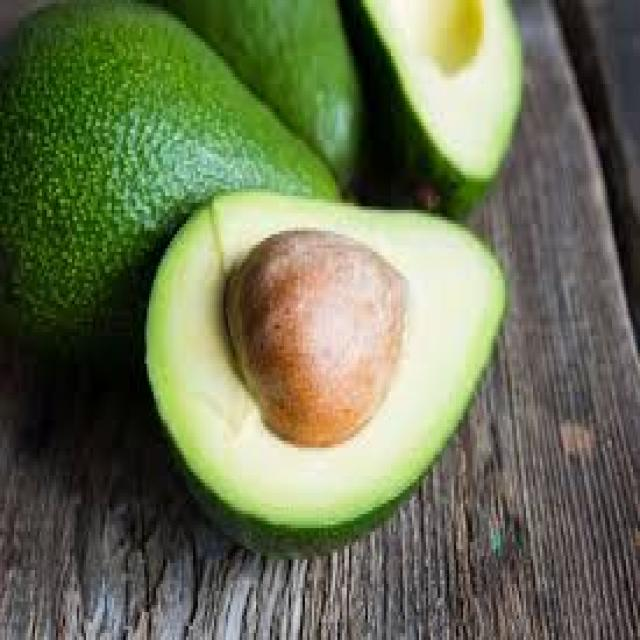Bo: (109, 179, 523, 588)
